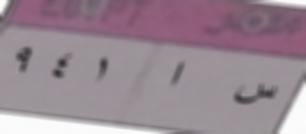1: (90, 50, 114, 85)
4: (45, 50, 74, 92)
9: (12, 41, 37, 80)
alif: (163, 53, 189, 95)
seen: (231, 72, 278, 116)
